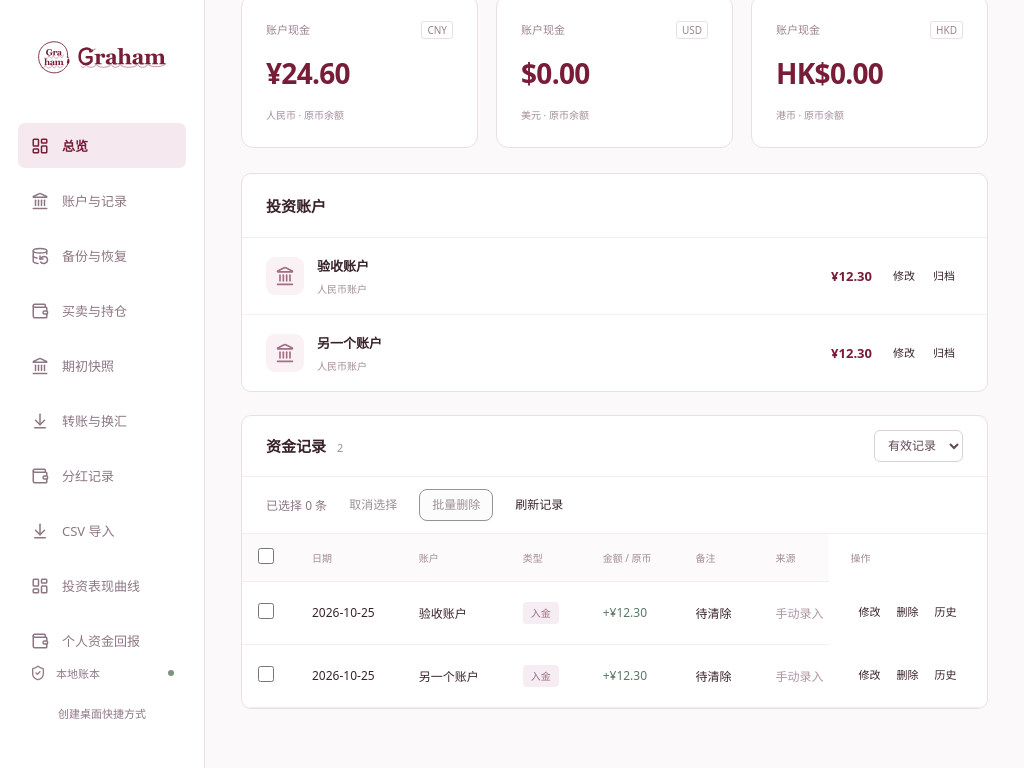
Test: 筛选切换清空选择，批量删除仅处理当前选择且可整批撤回
The width and height of the screenshot is (1024, 768).
(page scrolled)
Click the checkbox named "全选当前筛选记录": (266, 556) top-left (258, 548), bottom-right (274, 564)
(page scrolled)
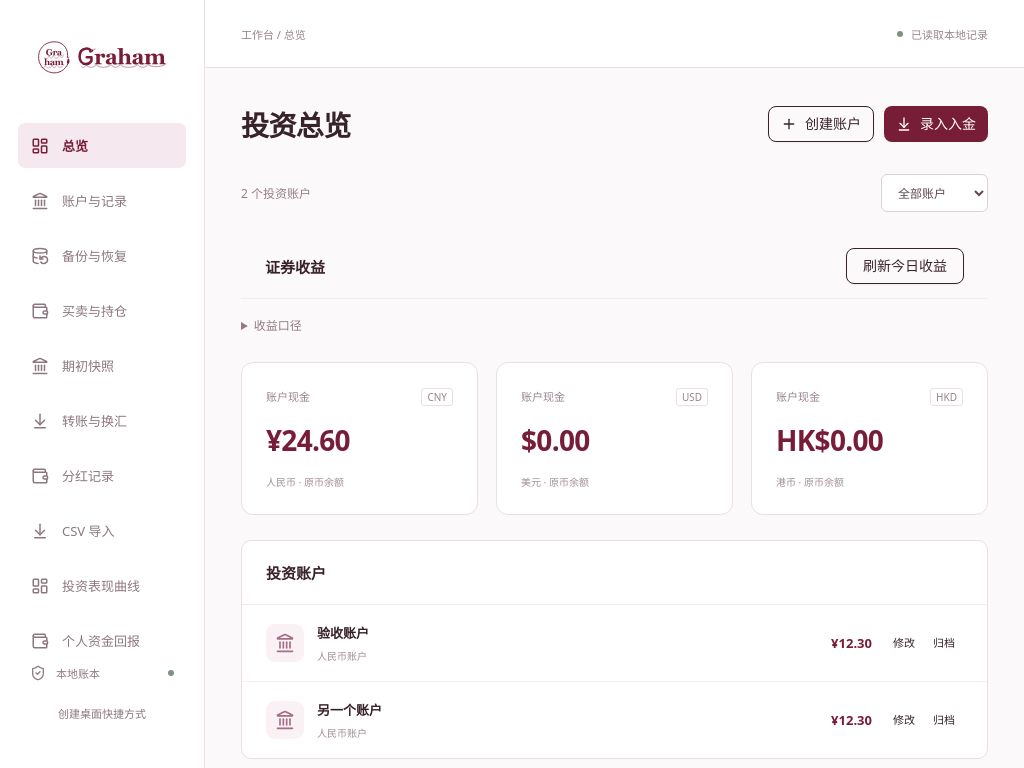
Select "验收账户" in the dropdown named "选择账户": (934, 193) top-left (881, 174), bottom-right (988, 212)
(page scrolled)
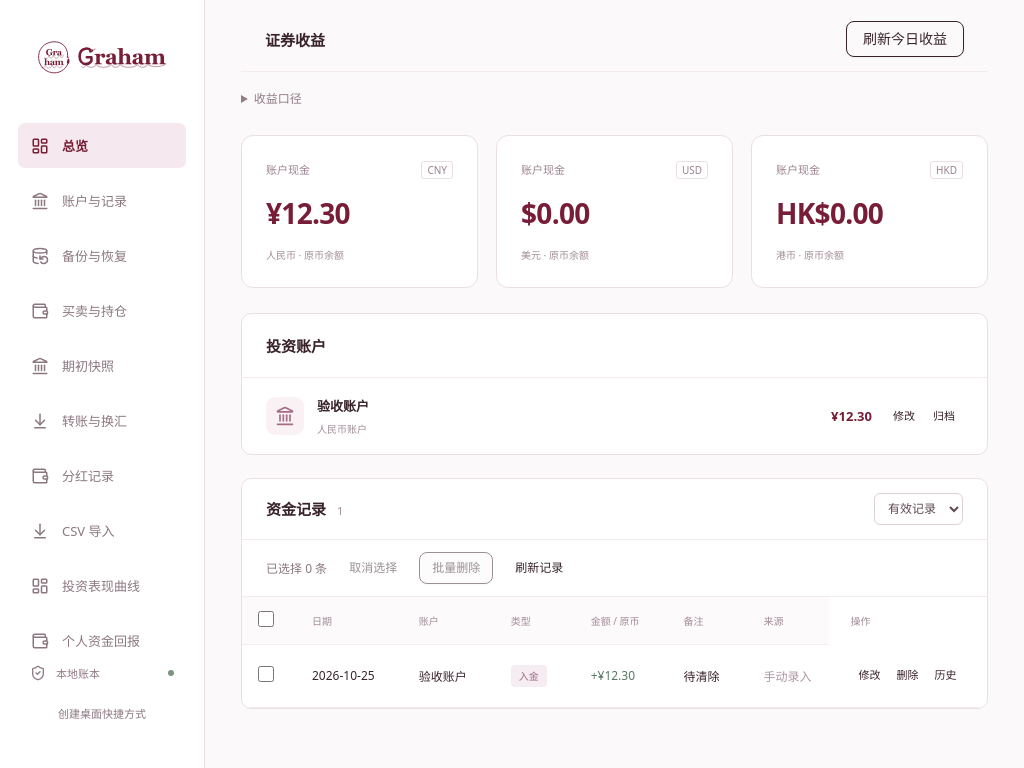
Check: the text "已选择 0 条" is shown, box top-left (266, 559), bottom-right (327, 577)
Check: the button "批量删除" is disabled, box top-left (419, 552), bottom-right (493, 584)
Click the checkbox named "全选当前筛选记录": (266, 619) top-left (258, 611), bottom-right (274, 627)
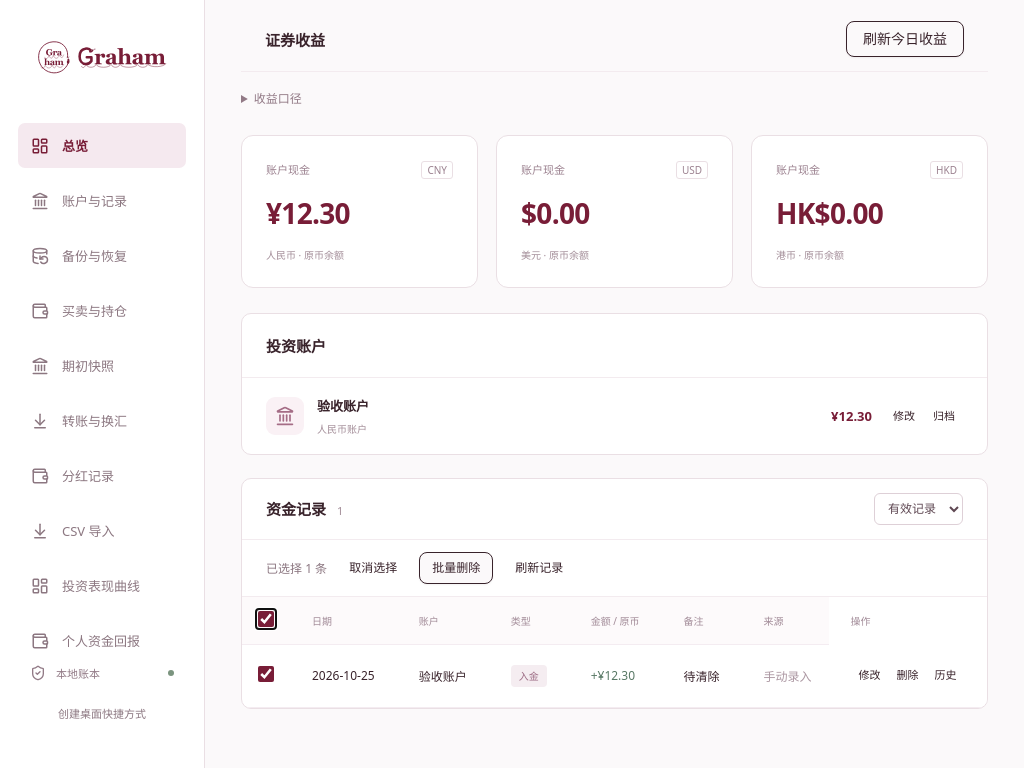
Click the button "批量删除": (456, 568) top-left (419, 552), bottom-right (493, 584)
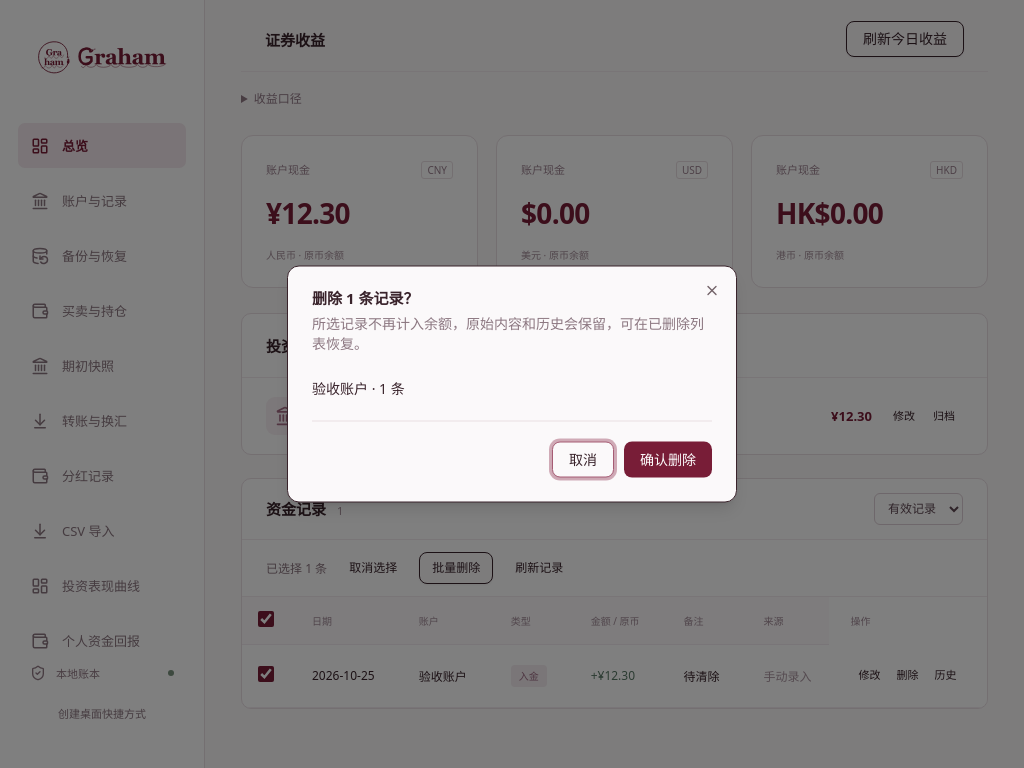
Click the button "确认删除": (668, 460) top-left (624, 442), bottom-right (712, 478)
(page scrolled)
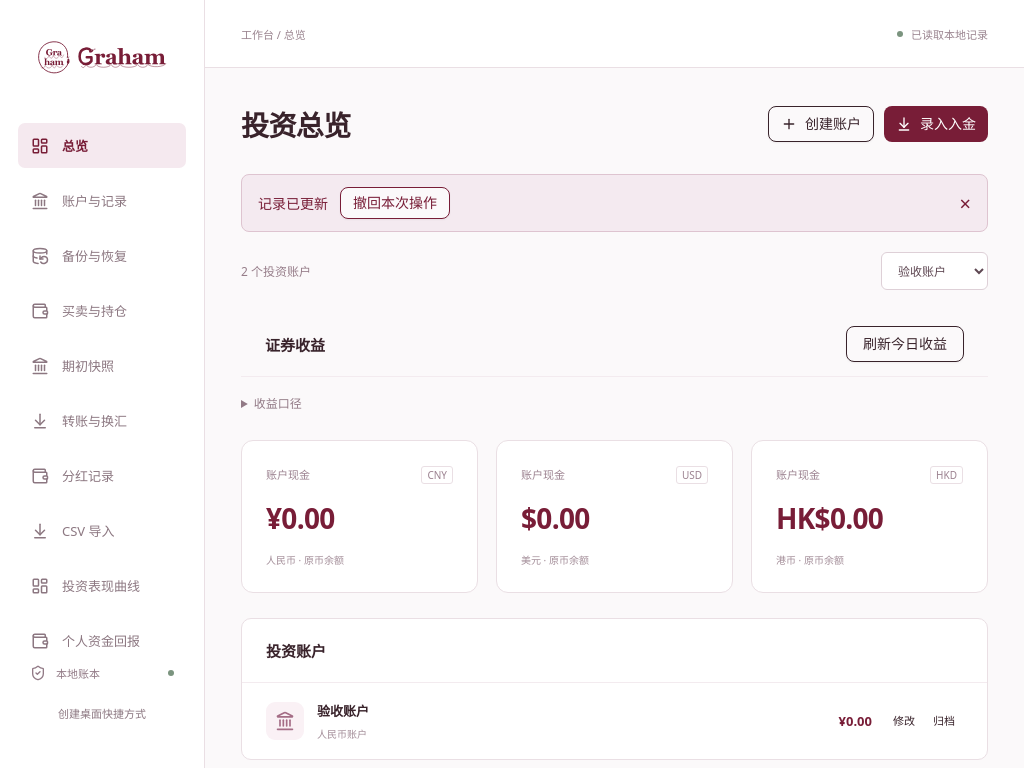
Click the button "撤回本次操作": (395, 203) top-left (340, 187), bottom-right (450, 219)
(page scrolled)
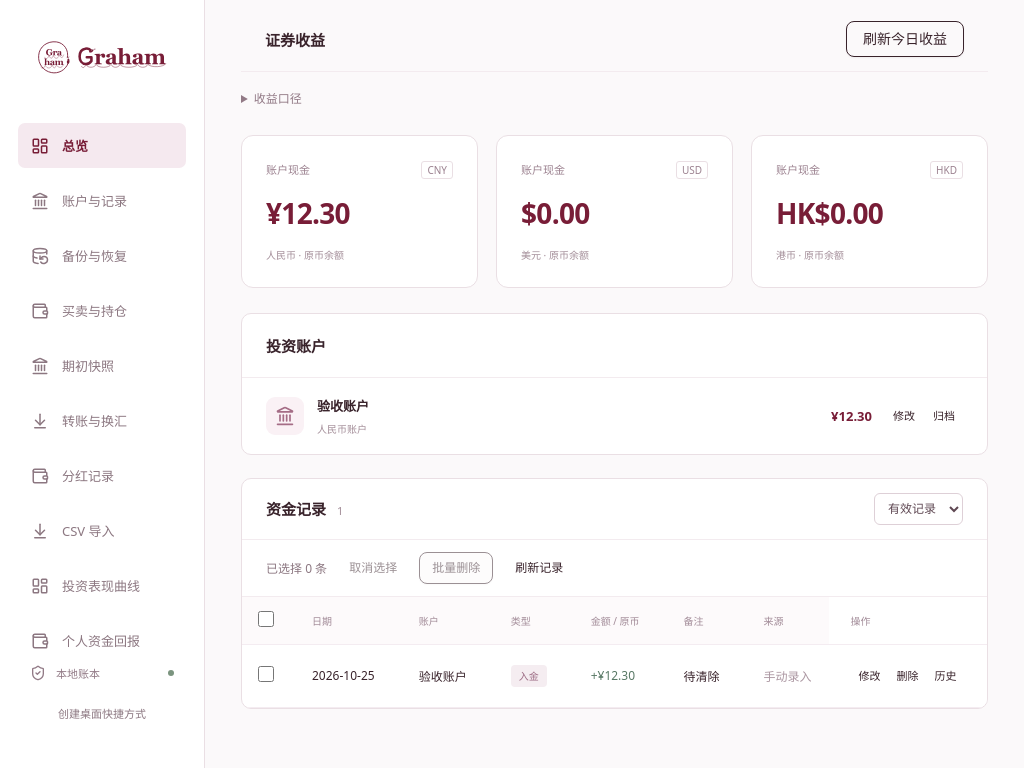
Check: the text "+¥12.30" is shown, box top-left (569, 644), bottom-right (662, 707)
Check: the text "已选择 0 条" is shown, box top-left (266, 559), bottom-right (327, 577)
